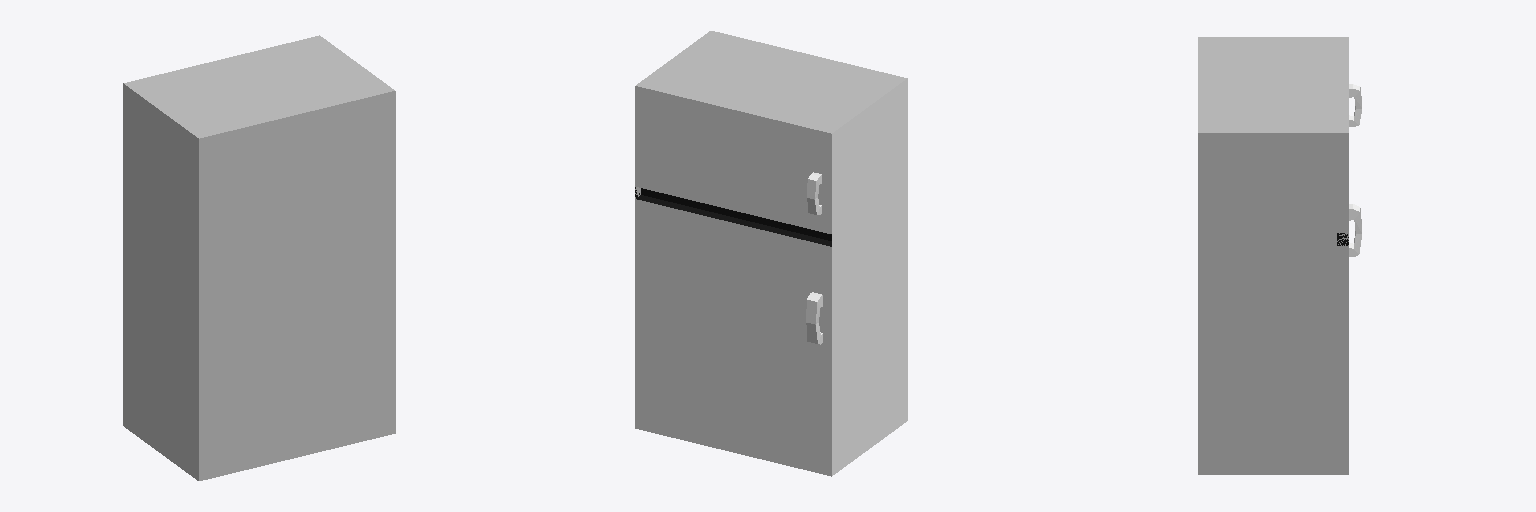
The model's file is Fridge.obj.
The picture shows the model from 3 angles: view 1: azimuth 30°, elevation 25°; view 2: azimuth 150°, elevation 25°; view 3: azimuth 270°, elevation 25°; orthographic projection.
Parts seen in each view (by area): view 1: Fridge; view 2: Fridge; view 3: Fridge.
Boxes of the visible parts, x1,y1,x2,y2 form: Fridge: [123, 35, 395, 480]; Fridge: [635, 31, 907, 476]; Fridge: [1198, 37, 1361, 474].
Bounding box in the file's own units: 1.47 × 2.45 × 1.07.